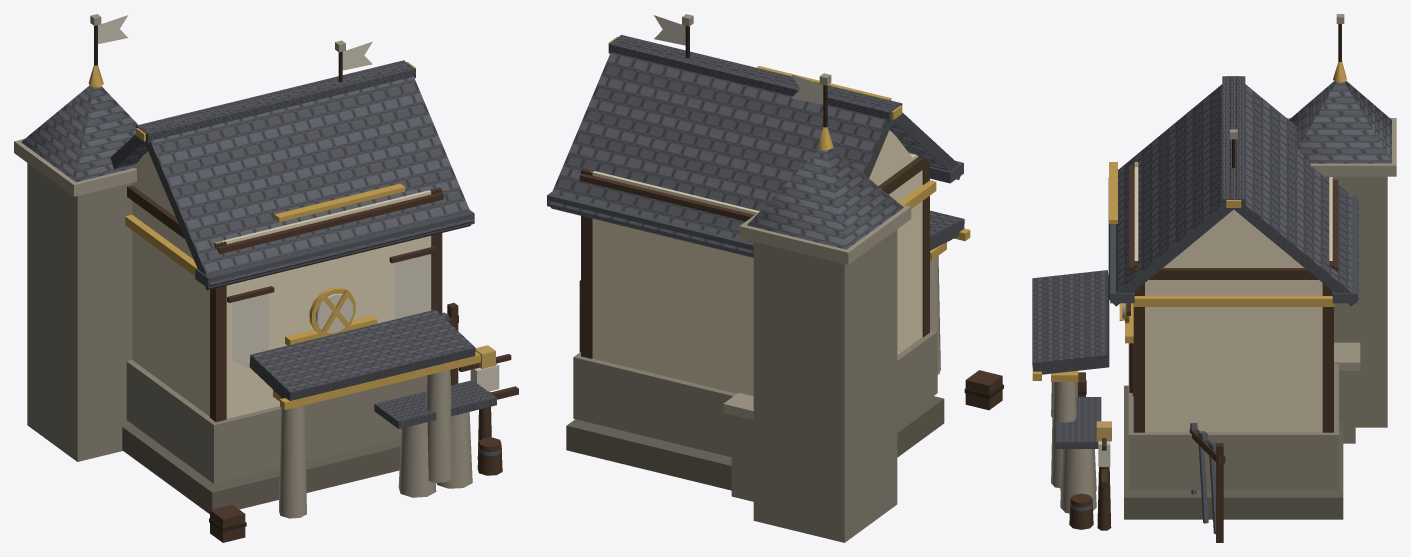
File: elite-L3.glb
3 renders of one model, left to right at view 1: azimuth 30°, elevation 25°; view 2: azimuth 150°, elevation 25°; view 3: azimuth 270°, elevation 25°, orthographic. The views are drawn at different scales.
Visible parts, largest first — view 1: building-elite-L3; view 2: building-elite-L3; view 3: building-elite-L3.
Boxes of the visible parts, left/top/right/bottom form: building-elite-L3: left=14, top=14, right=518, bottom=542; building-elite-L3: left=547, top=14, right=1003, bottom=542; building-elite-L3: left=1032, top=14, right=1396, bottom=542.
Size of the model in its own units: 2.5 by 2.84 by 2.39.
12 materials, 1 textured.
